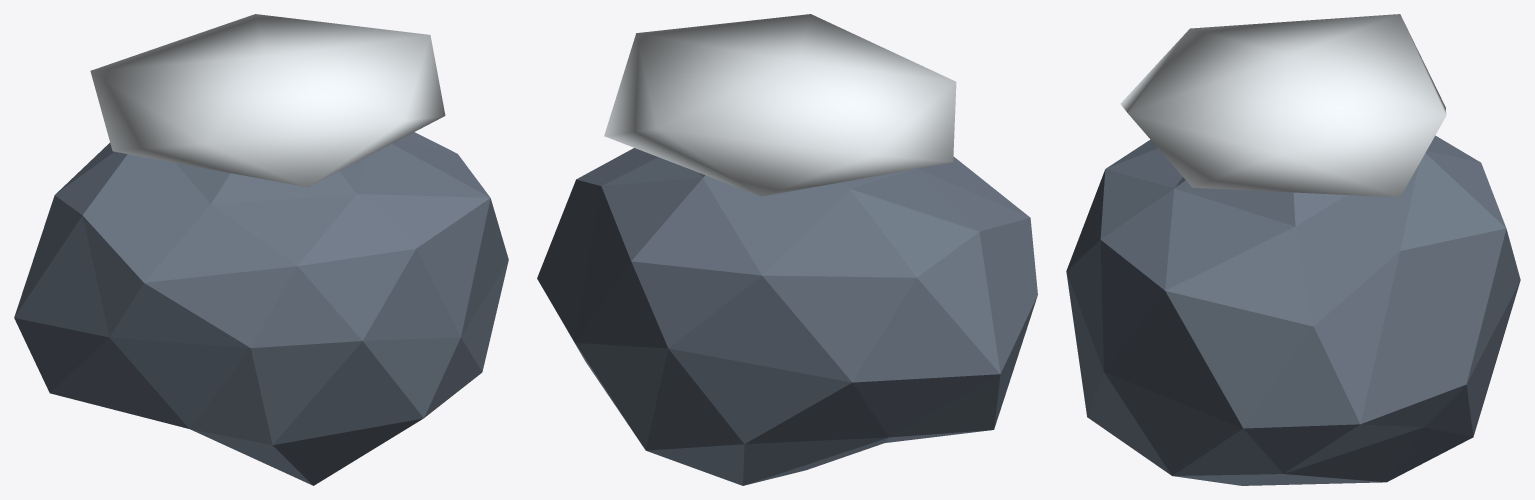
File: hd_frozenrock.gltf
3 renders of one model, left to right at view 1: azimuth 30°, elevation 25°; view 2: azimuth 150°, elevation 25°; view 3: azimuth 270°, elevation 25°, orthographic. The views are drawn at different scales.
Visible parts, largest first — view 1: rock, cap; view 2: rock, cap; view 3: rock, cap.
Boxes of the visible parts, bbox=[...] form: rock: bbox=[14, 132, 508, 485]; cap: bbox=[90, 14, 445, 187]; rock: bbox=[537, 148, 1037, 485]; cap: bbox=[604, 14, 956, 196]; rock: bbox=[1066, 135, 1520, 485]; cap: bbox=[1120, 14, 1446, 197].
Size of the model in its own units: 1.45 by 1.21 by 1.2.
